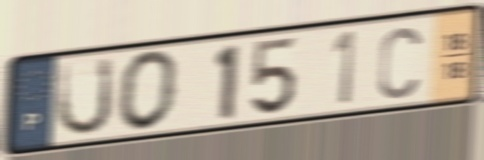1: (211, 40, 243, 123), (331, 27, 358, 108)
5: (250, 34, 298, 116)
C: (375, 24, 424, 102)
O: (116, 47, 182, 134)
U: (54, 53, 116, 139)
